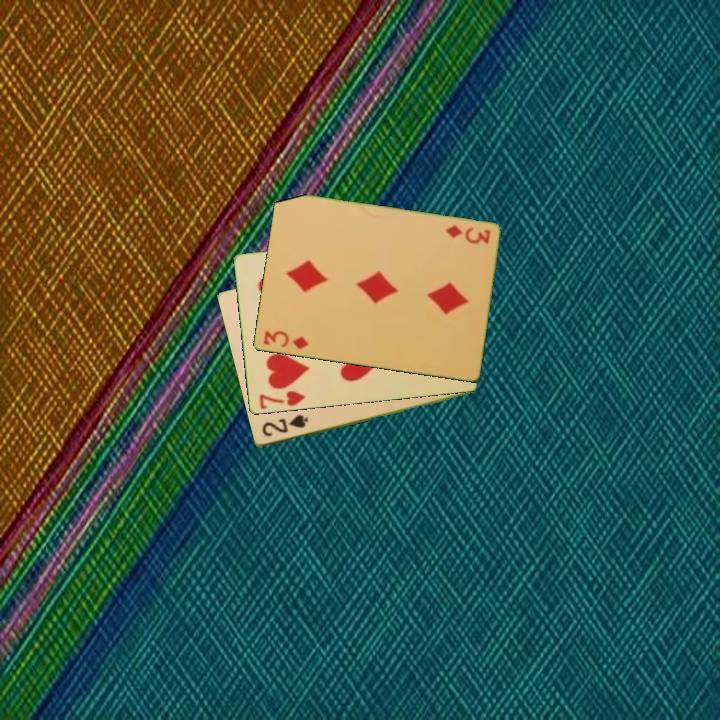2s: (258, 411, 311, 440)
3d: (259, 327, 312, 352), (442, 222, 493, 247)
7h: (255, 387, 308, 412)
